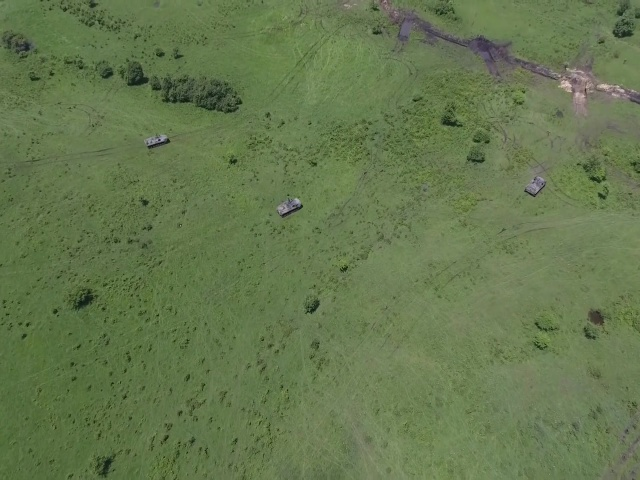vehicle: (277, 197, 304, 217), (524, 177, 546, 197), (144, 133, 171, 149)
